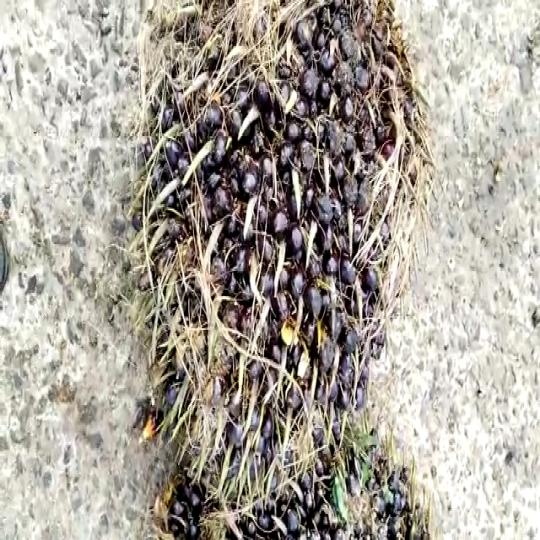mentah: (132, 0, 444, 540)
